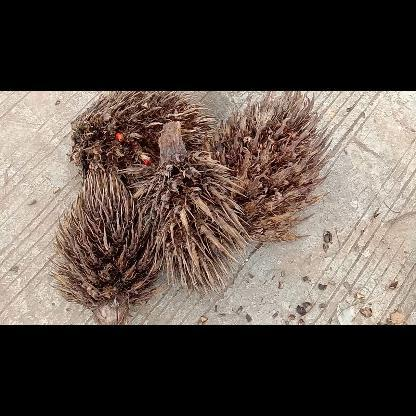Janjang kosong: (134, 119, 252, 289), (216, 91, 330, 245), (57, 170, 161, 324), (66, 91, 214, 185)
